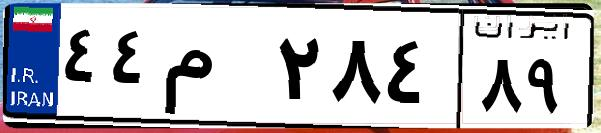2: (270, 28, 330, 110)
4: (385, 28, 445, 110), (57, 26, 110, 100), (110, 28, 158, 98)
8: (330, 28, 385, 110), (475, 38, 525, 113)
9: (525, 38, 570, 115)
م: (158, 20, 270, 120)
